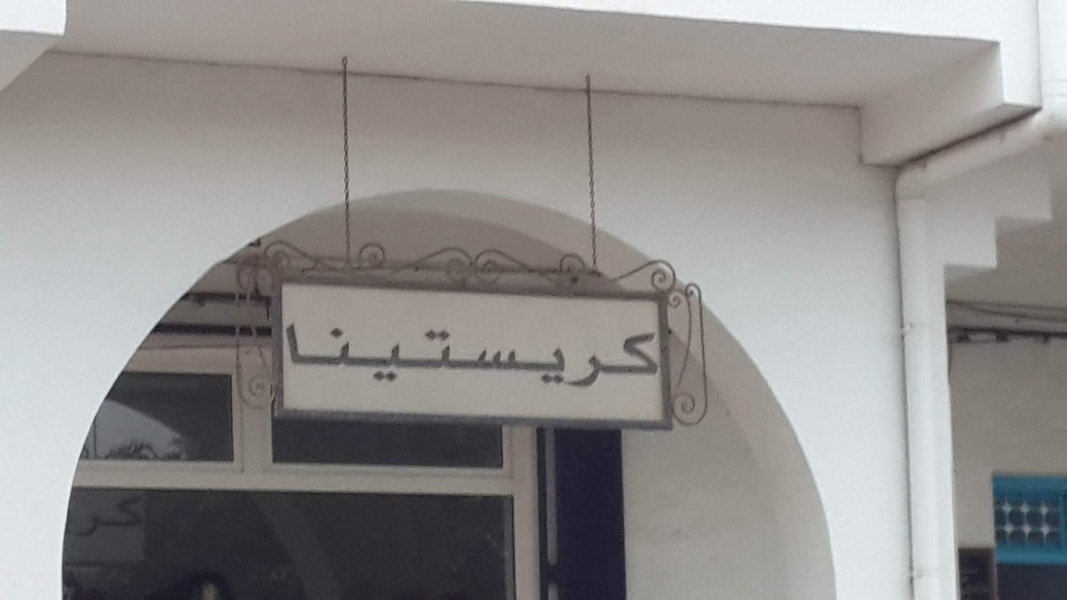text: (289, 323, 304, 392), (305, 323, 320, 392), (321, 323, 336, 392), (337, 323, 352, 392), (353, 323, 368, 392), (369, 323, 384, 392), (385, 323, 400, 392), (401, 323, 416, 392), (417, 323, 432, 392), (433, 323, 448, 392), (449, 323, 464, 392), (465, 323, 480, 392), (481, 323, 496, 392), (497, 323, 512, 392), (513, 323, 528, 392), (529, 323, 544, 392), (545, 323, 560, 392), (561, 323, 576, 392), (577, 323, 592, 392), (593, 323, 608, 392), (609, 323, 624, 392), (625, 323, 640, 392), (641, 323, 656, 392), (283, 323, 288, 392), (657, 323, 660, 392)
